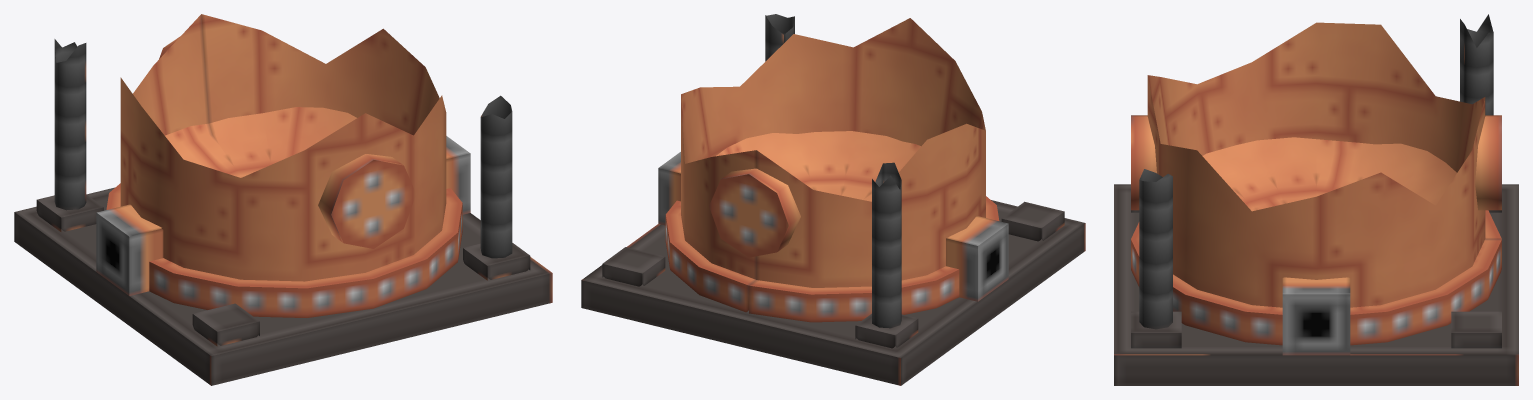
The model's file is boiler_burst.obj.
The picture shows the model from 3 angles, left to right: view 1: azimuth 30°, elevation 25°; view 2: azimuth 150°, elevation 25°; view 3: azimuth 270°, elevation 25°; orthographic projection. The views are drawn at different scales.
Visible parts, largest first — view 1: Plane; view 2: Plane; view 3: Plane.
Part boxes in pixels (x1,y1,x2,y2): Plane: [14, 14, 552, 385]; Plane: [581, 14, 1085, 385]; Plane: [1114, 14, 1518, 385].
Size of the model in its own units: 3 by 1.84 by 3.
